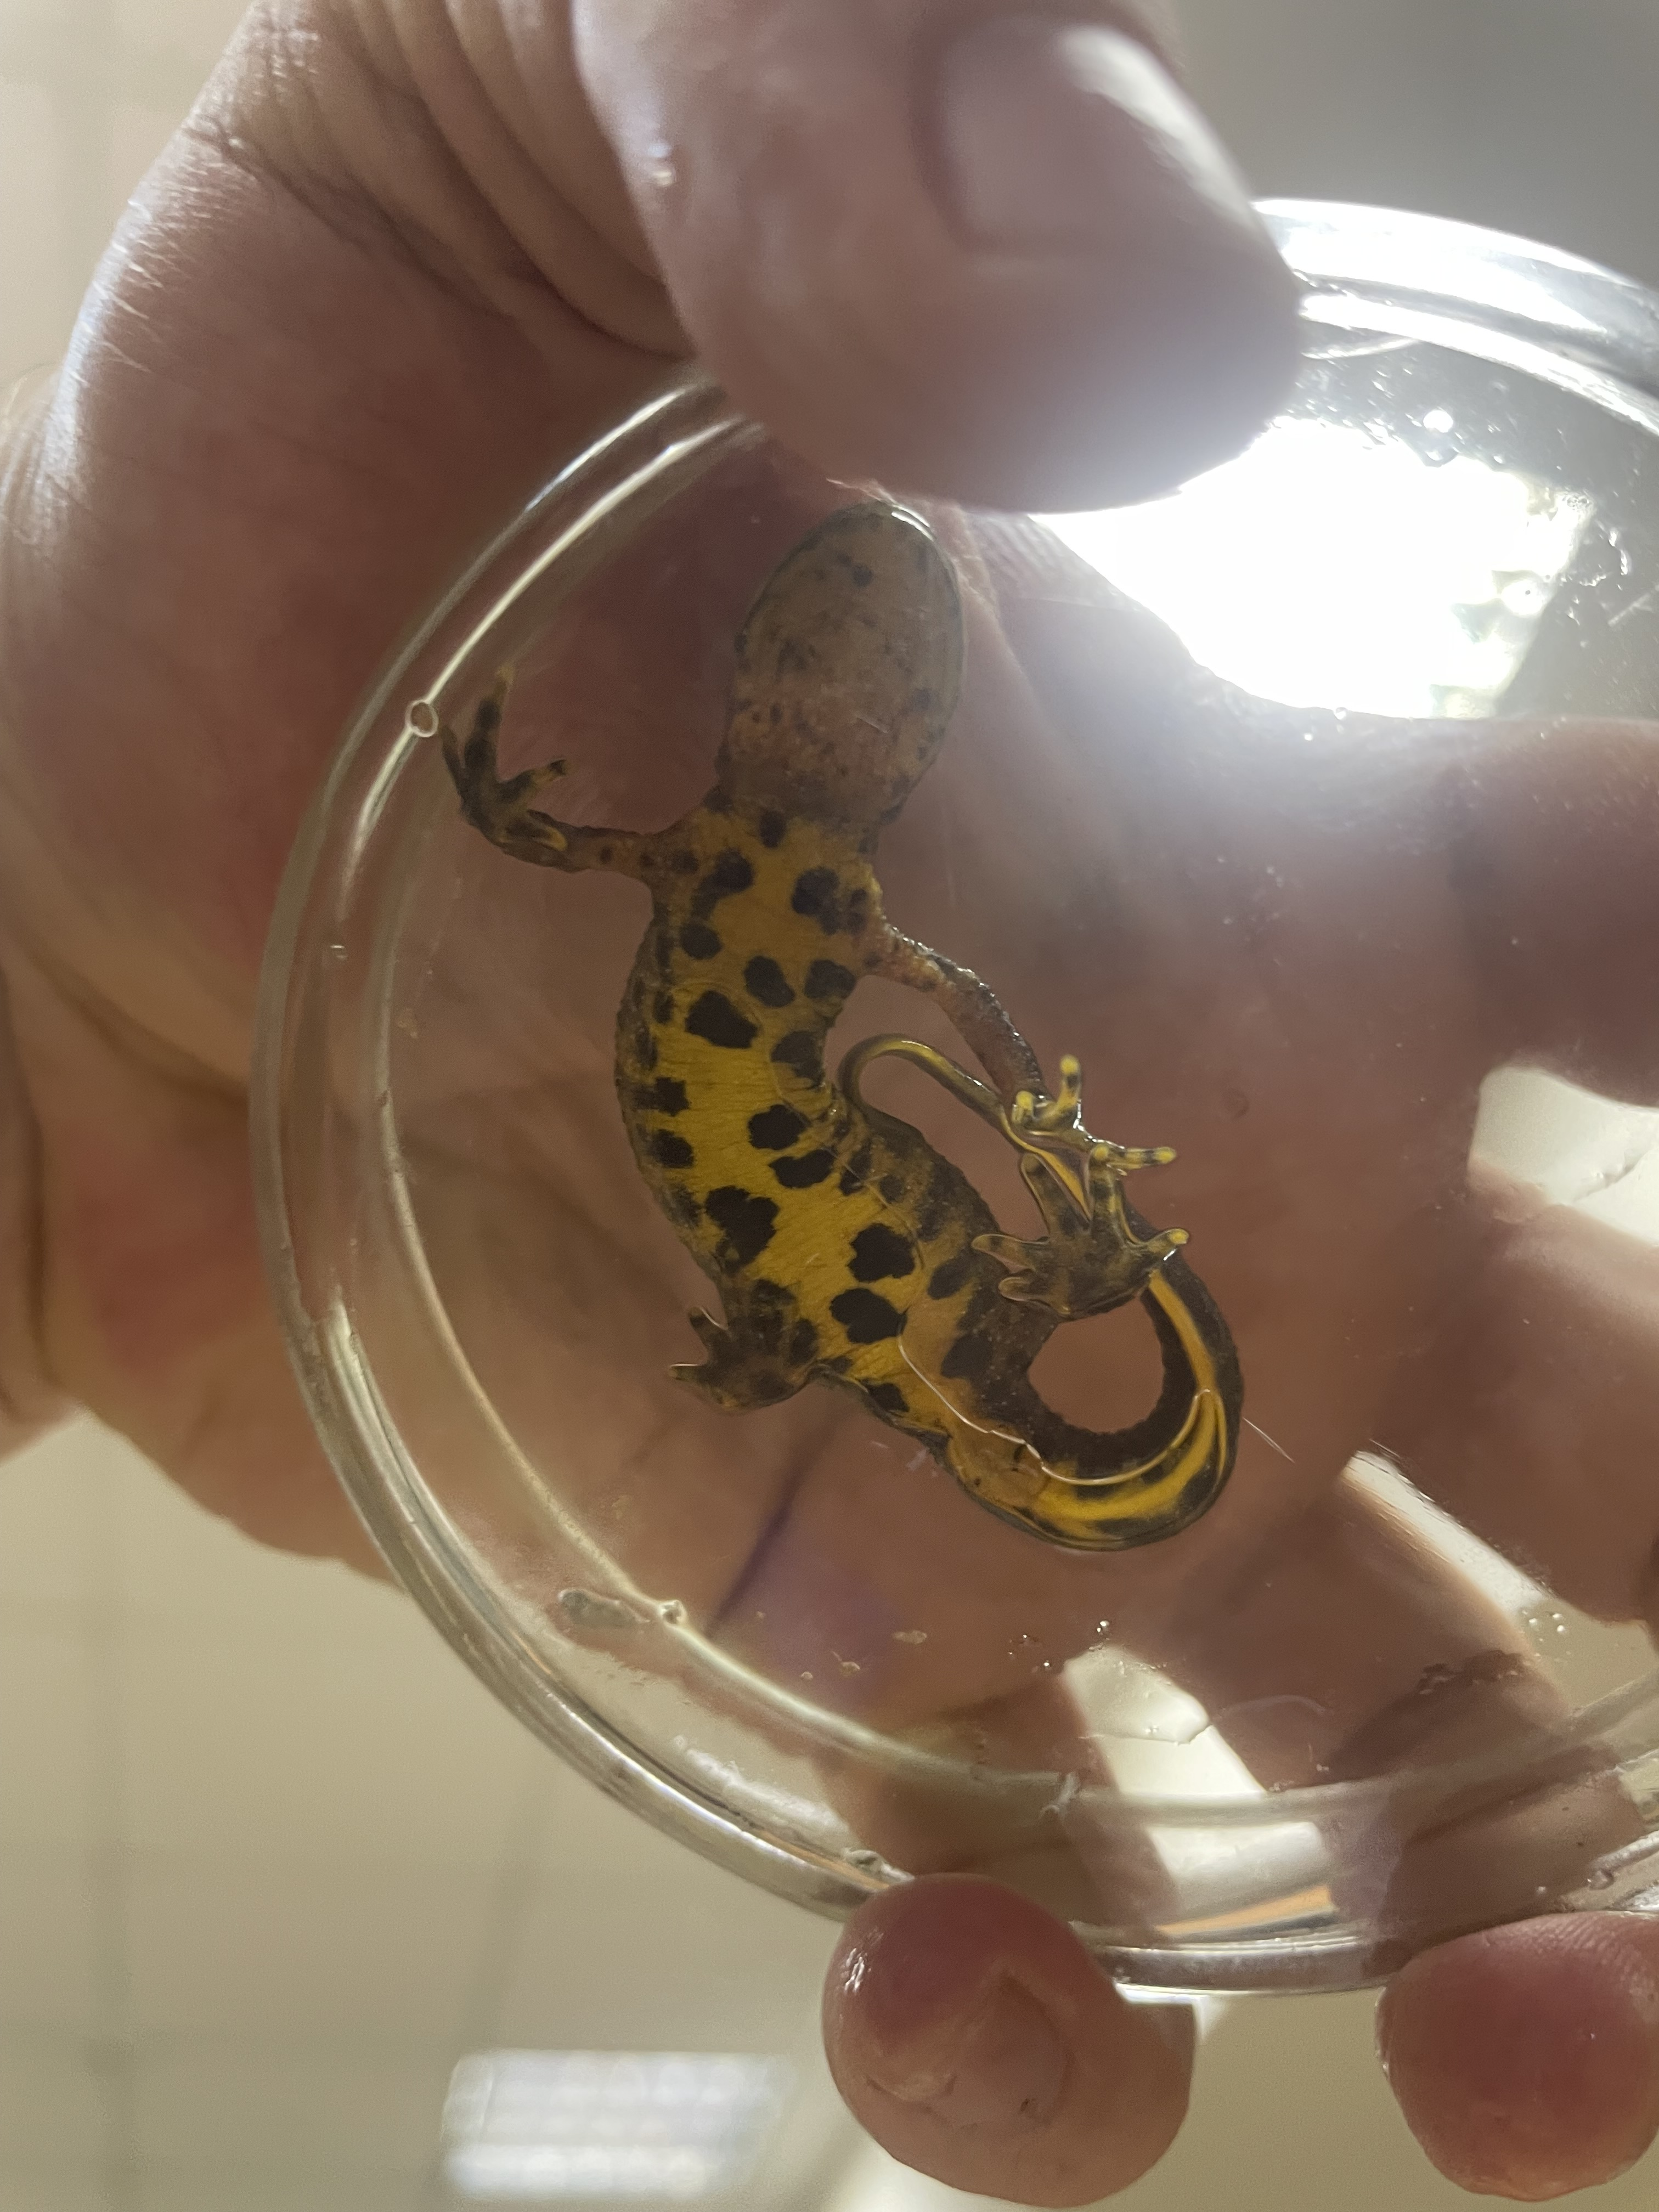Karelin_newt: (615, 885, 1004, 1305)
